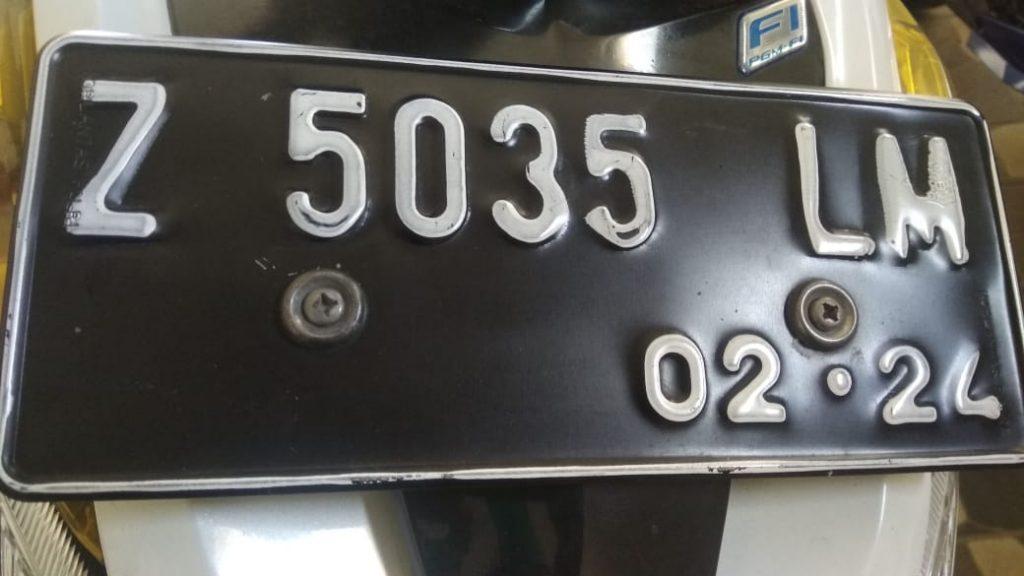0: (376, 78, 478, 248)
3: (476, 83, 578, 259)
5: (569, 92, 680, 261), (273, 70, 378, 243)
L: (784, 105, 880, 267)
M: (860, 110, 984, 279)
Z: (55, 56, 178, 245)
